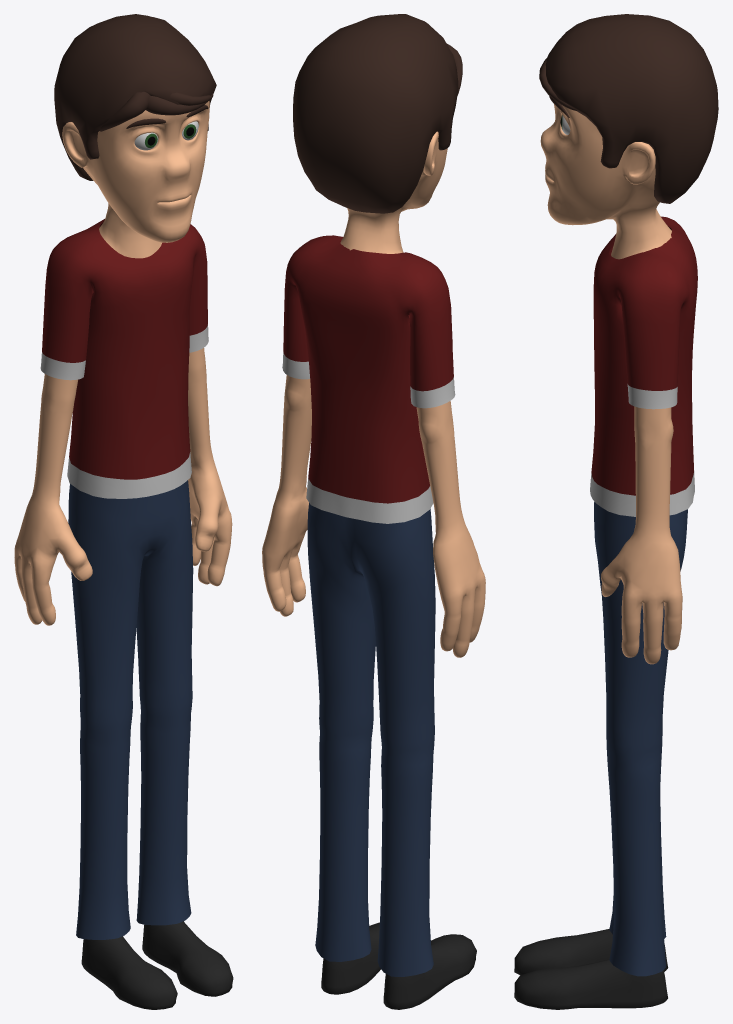
Rendered from Porl.obj.
3 views of the same model, side by side, from view 1: azimuth 30°, elevation 25°; view 2: azimuth 150°, elevation 25°; view 3: azimuth 270°, elevation 25° (orthographic). The views are drawn at different scales.
Parts seen in each view (by area): view 1: Pants_Plane.021, Character_Mesh_Plane.001, T-Shirt_Plane.023, Hair1_Cube.003, Hair2_Circle.011, Eyes_Cube.002; view 2: Pants_Plane.021, T-Shirt_Plane.023, Character_Mesh_Plane.001, Hair1_Cube.003; view 3: Character_Mesh_Plane.001, T-Shirt_Plane.023, Pants_Plane.021, Hair1_Cube.003.
Boxes of the visible parts, bbox=[...] form: Pants_Plane.021: bbox=[68, 480, 193, 939]; Character_Mesh_Plane.001: bbox=[14, 101, 233, 1009]; T-Shirt_Plane.023: bbox=[40, 219, 208, 498]; Hair1_Cube.003: bbox=[54, 14, 216, 180]; Hair2_Circle.011: bbox=[99, 91, 213, 131]; Eyes_Cube.002: bbox=[134, 121, 198, 150]; Pants_Plane.021: bbox=[307, 503, 435, 976]; T-Shirt_Plane.023: bbox=[282, 235, 455, 523]; Character_Mesh_Plane.001: bbox=[262, 131, 485, 1009]; Hair1_Cube.003: bbox=[293, 14, 458, 213]; Character_Mesh_Plane.001: bbox=[514, 95, 682, 1009]; T-Shirt_Plane.023: bbox=[590, 216, 697, 516]; Pants_Plane.021: bbox=[594, 502, 687, 976]; Hair1_Cube.003: bbox=[545, 14, 718, 203].
Bounding box in the file's own units: 1.55 × 7.02 × 1.35.
